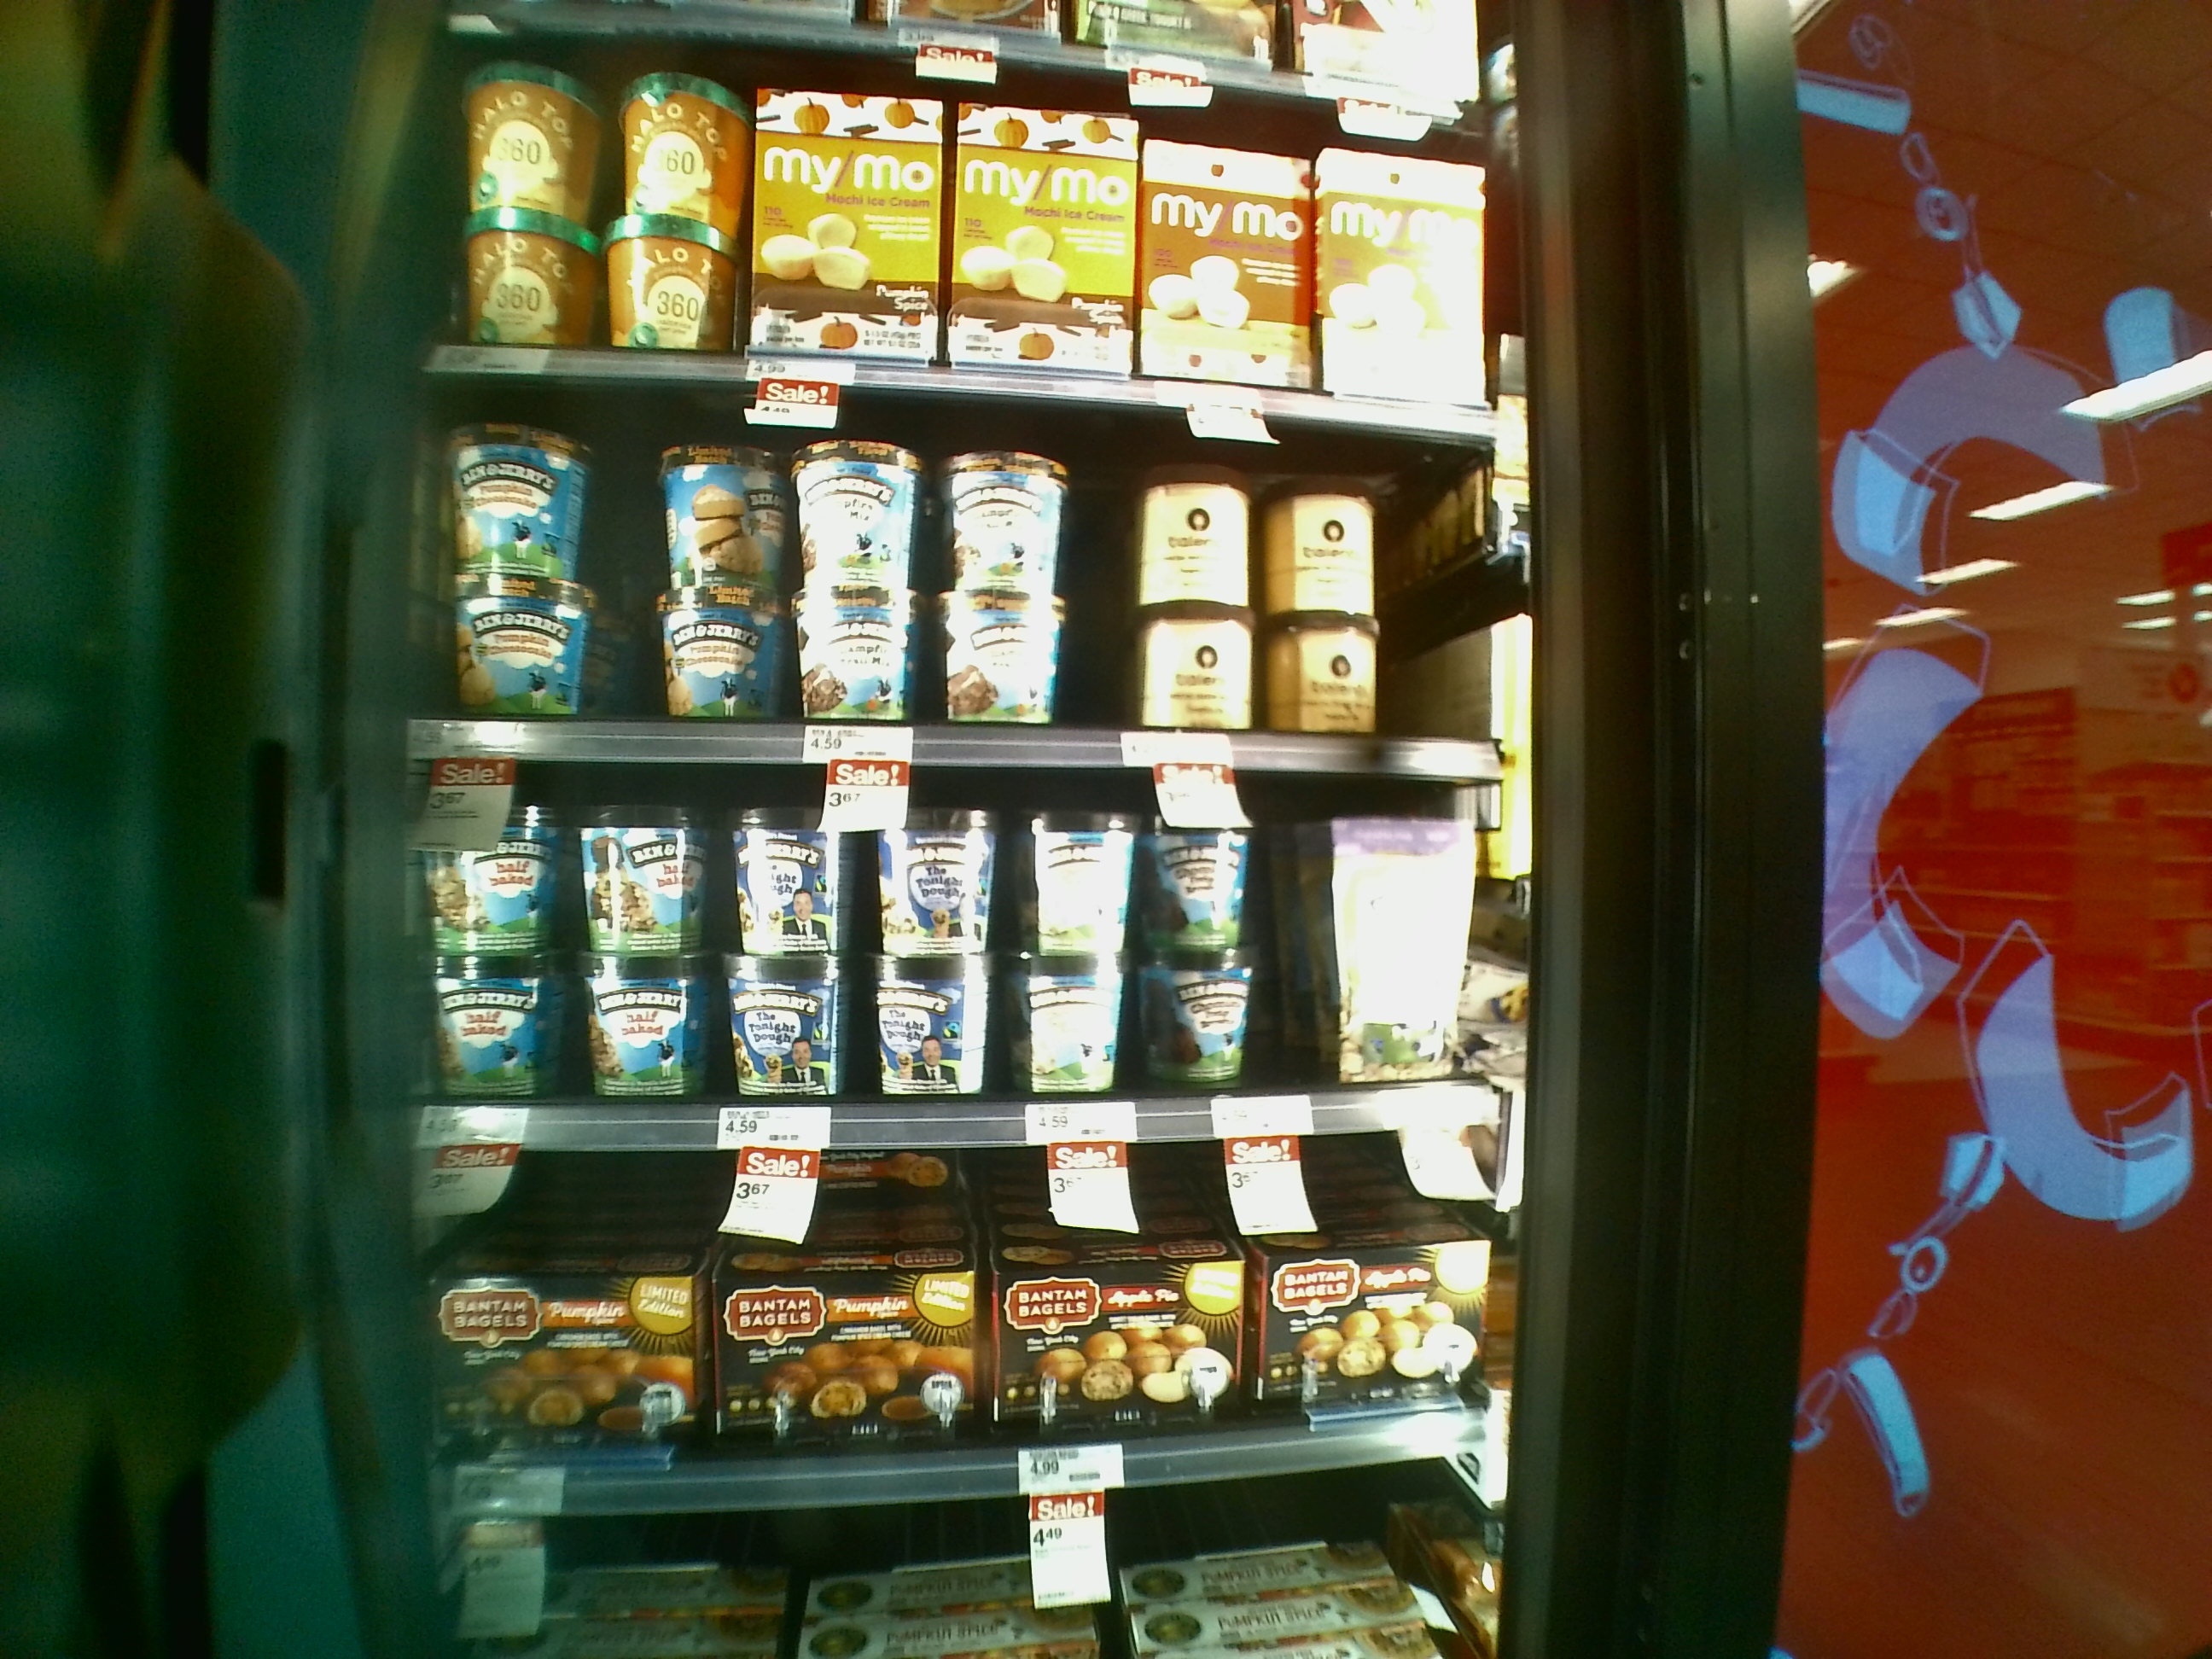shelf: (409, 357, 1507, 786), (380, 727, 1508, 1133), (383, 1127, 1484, 1495)
